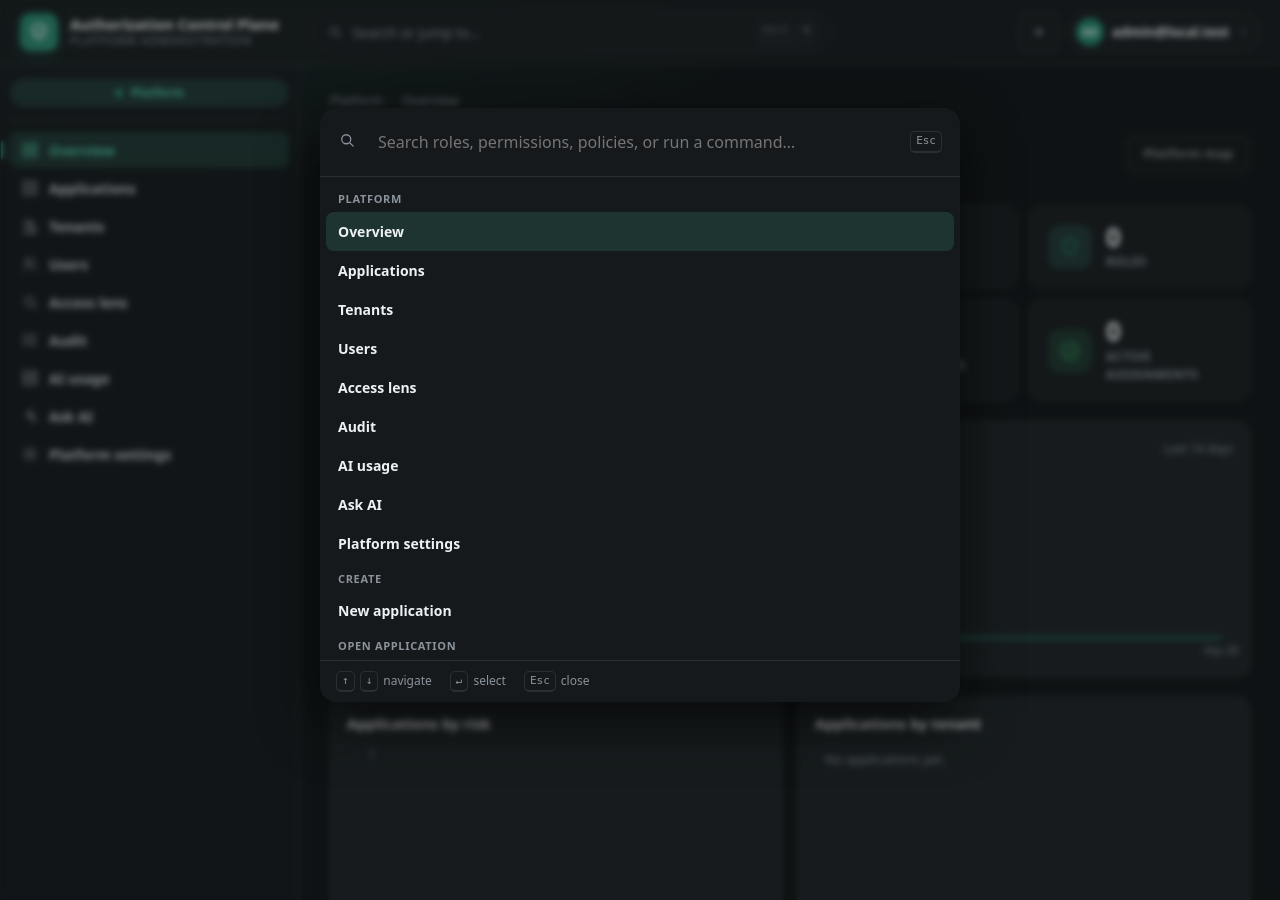
it: Console › creates an application from the command palette
Click the option "New application" at [395, 610], box x1=338 y1=601 x2=452 y2=620
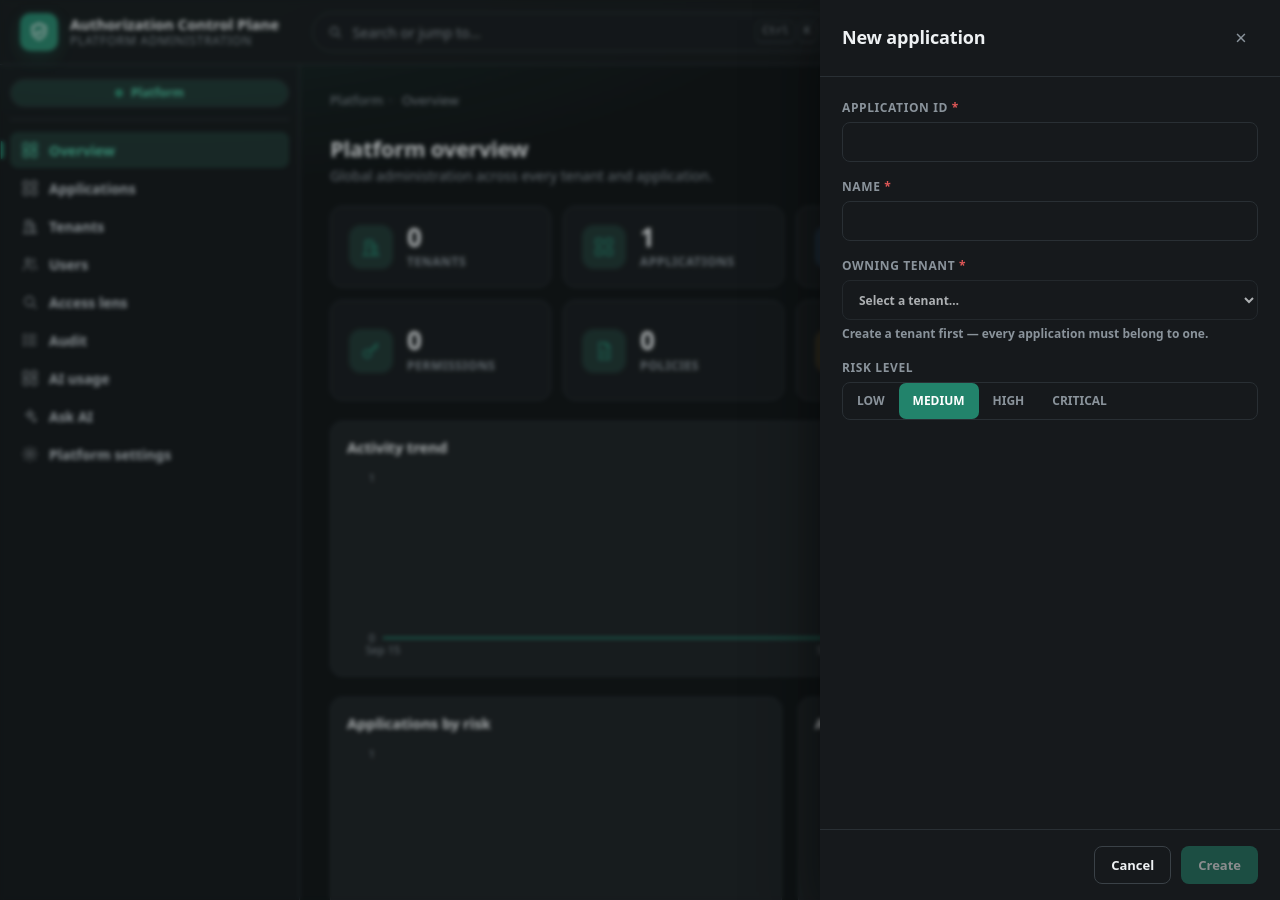
Check: the text "New application" is shown, box x1=842 y1=26 x2=985 y2=50
Check: the dialog is shown, box x1=820 y1=0 x2=1279 y2=899
